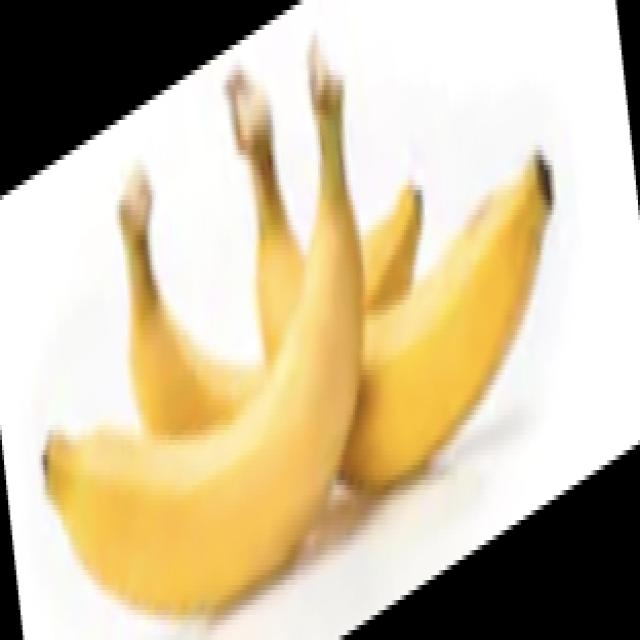god quality banana: (45, 45, 554, 612)
